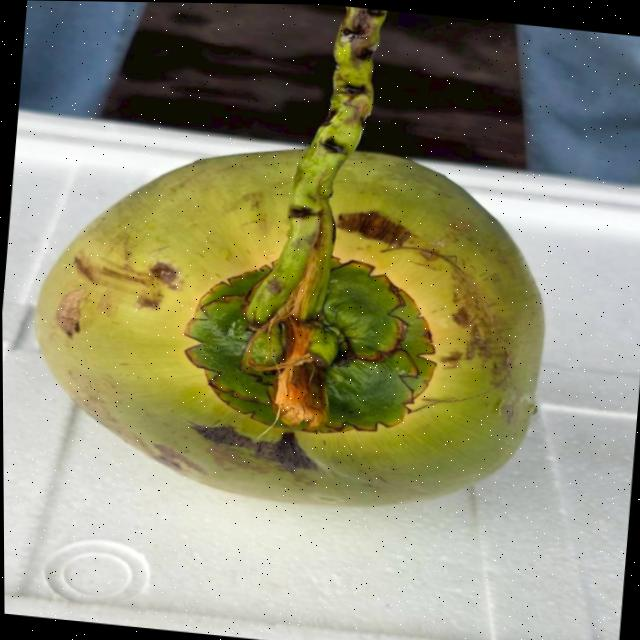coco_2.0: (140, 216, 494, 472)
